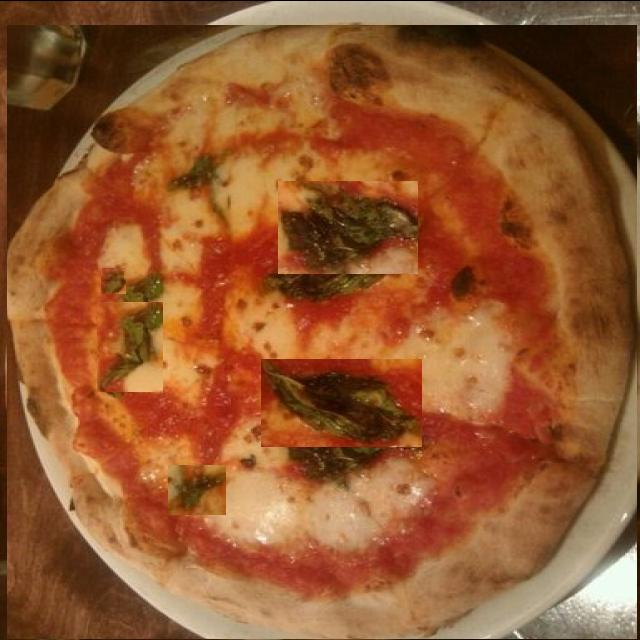basil: (262, 358, 424, 446), (278, 178, 418, 272), (97, 301, 163, 391), (168, 464, 226, 514), (101, 267, 126, 293)
pizza: (7, 24, 637, 638)
